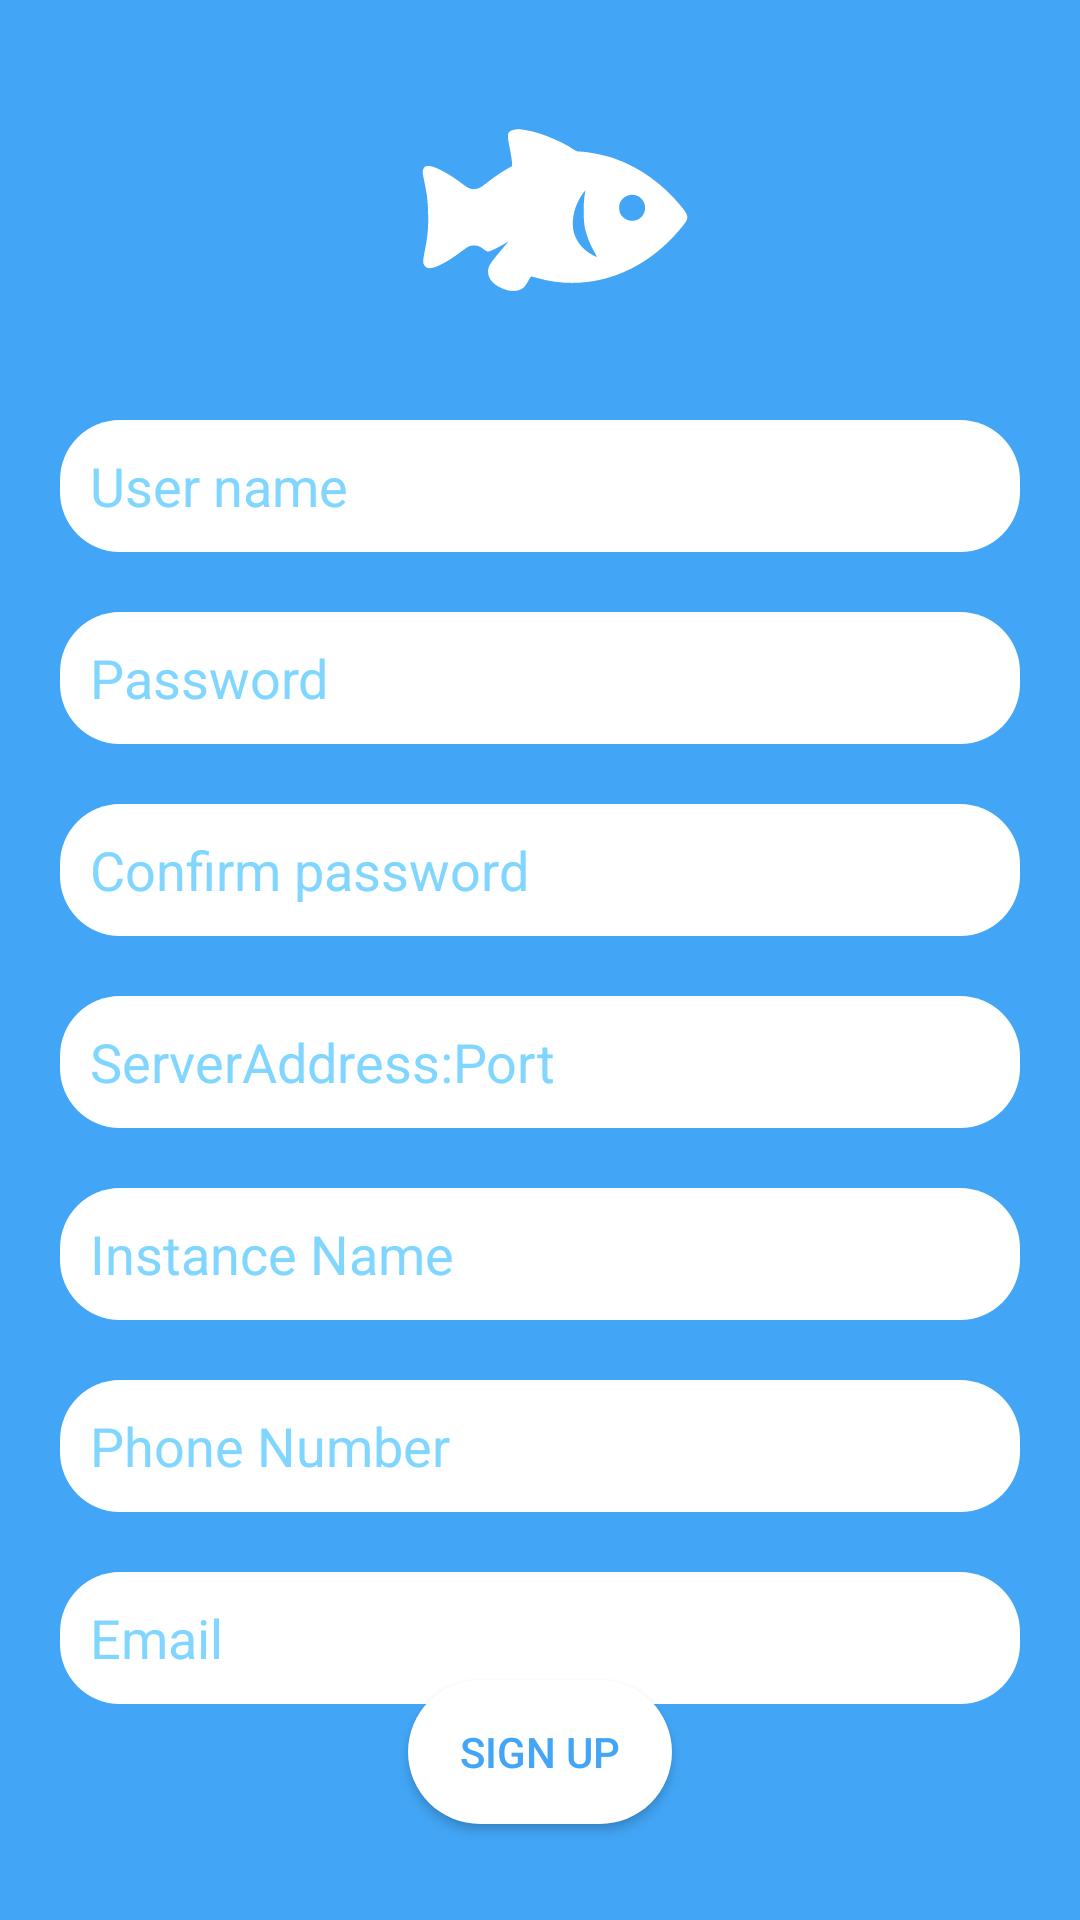

Where to tap for icons on this 1080px x 1920px app screen, as (x,y):
fish icon: (555,210)
